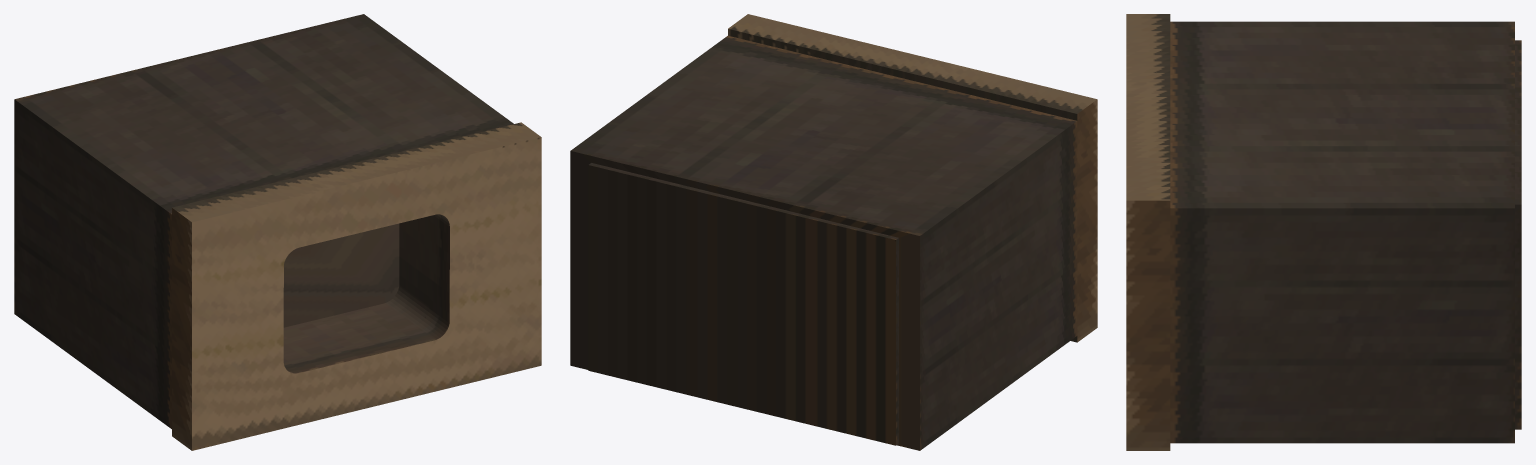
The model's file is pz_counter_wooden_floor__sink_inset_rect.obj.
The picture shows the model from 3 angles, left to right: view 1: azimuth 30°, elevation 25°; view 2: azimuth 150°, elevation 25°; view 3: azimuth 270°, elevation 25°; orthographic projection. The views are drawn at different scales.
Size of the model in its own units: 1 by 0.6266 by 0.895.
Materials: 1 (1 with a texture image).
